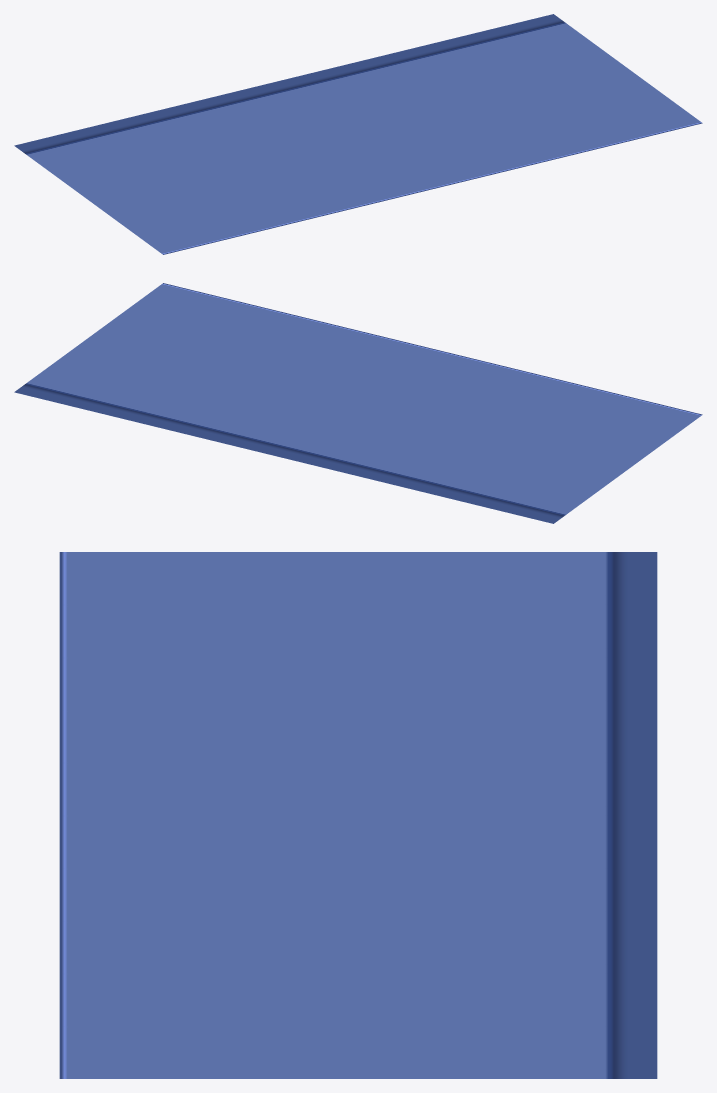
File: Tiles BG.fbx
3 renders of one model, top to bottom at view 1: azimuth 30°, elevation 25°; view 2: azimuth 150°, elevation 25°; view 3: azimuth 270°, elevation 25°, orthographic. The views are drawn at different scales.
Parts seen in each view (by area): view 1: Small_Tiles_bg; view 2: Small_Tiles_bg; view 3: Small_Tiles_bg.
Boxes of the visible parts, <box> form: Small_Tiles_bg: <box>14,14,702,254</box>; Small_Tiles_bg: <box>14,283,702,523</box>; Small_Tiles_bg: <box>59,552,657,1078</box>.
Size of what is drawn, in the model's own units: 20.09 by 0 by 9.63.
Materials: 1 (1 with a texture image).
